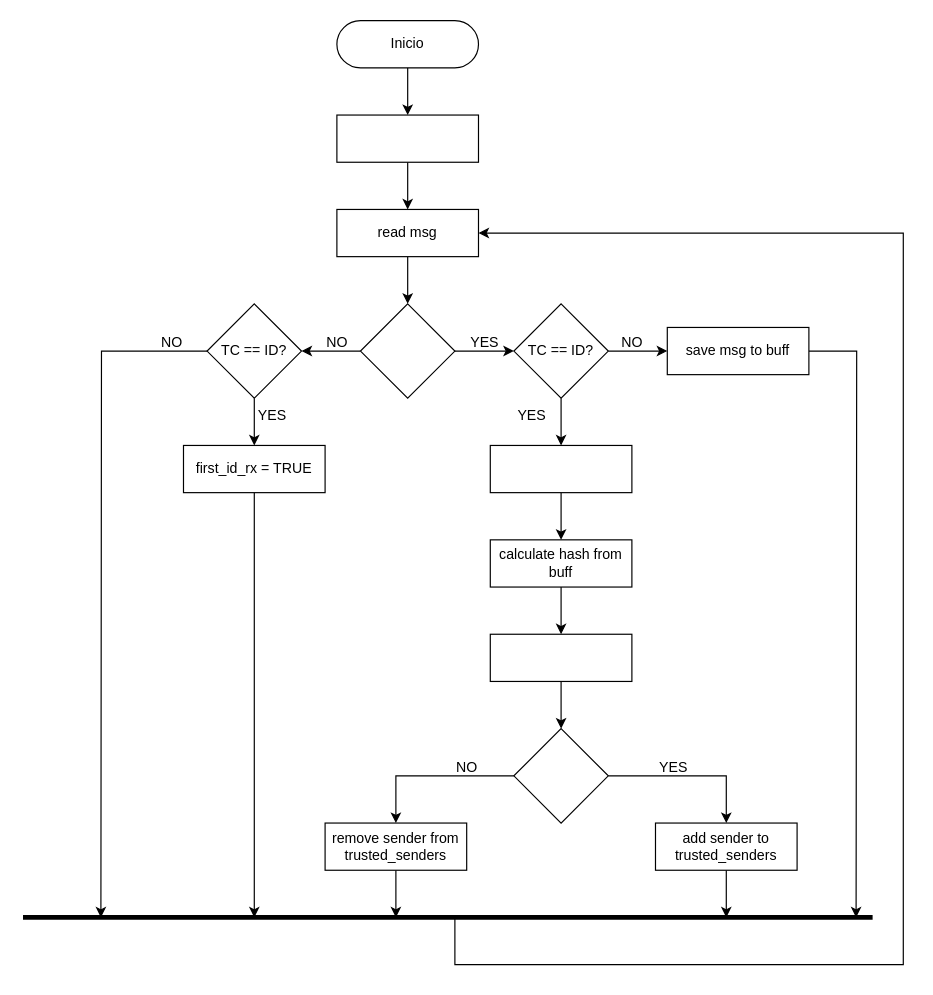
Image size: 933x995. Some labels were removed from this diagram. Each missing label, with the centre of its shape:
clear buff: (560,657)
decrypt hash from msg: (560,468)
first_id_rx = FALSE trusted_senders = {}: (407,138)
first_id_rx?: (407,350)
hashes match?: (560,775)
